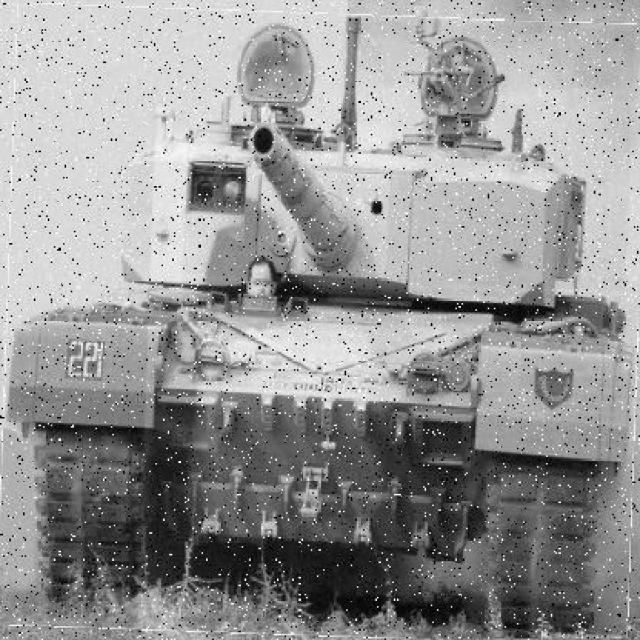Tank: (3, 9, 640, 640)
